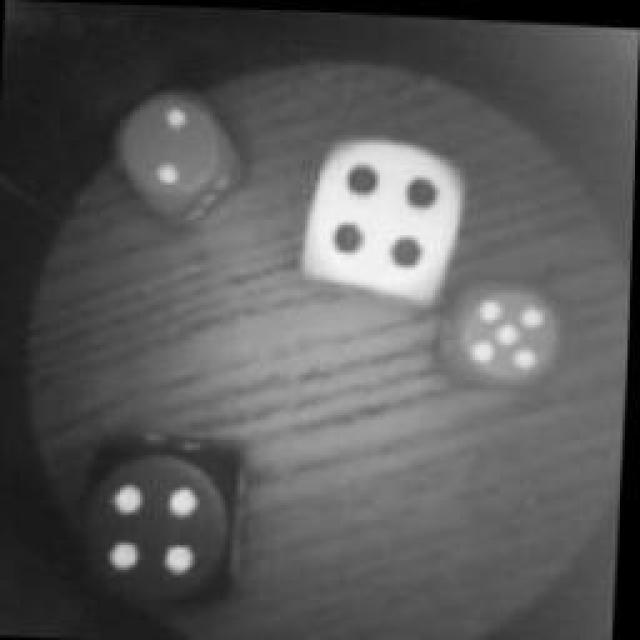dice_2: (110, 82, 245, 220)
dice_4: (75, 432, 253, 610), (306, 122, 469, 302)
dice_5: (448, 276, 568, 389)
